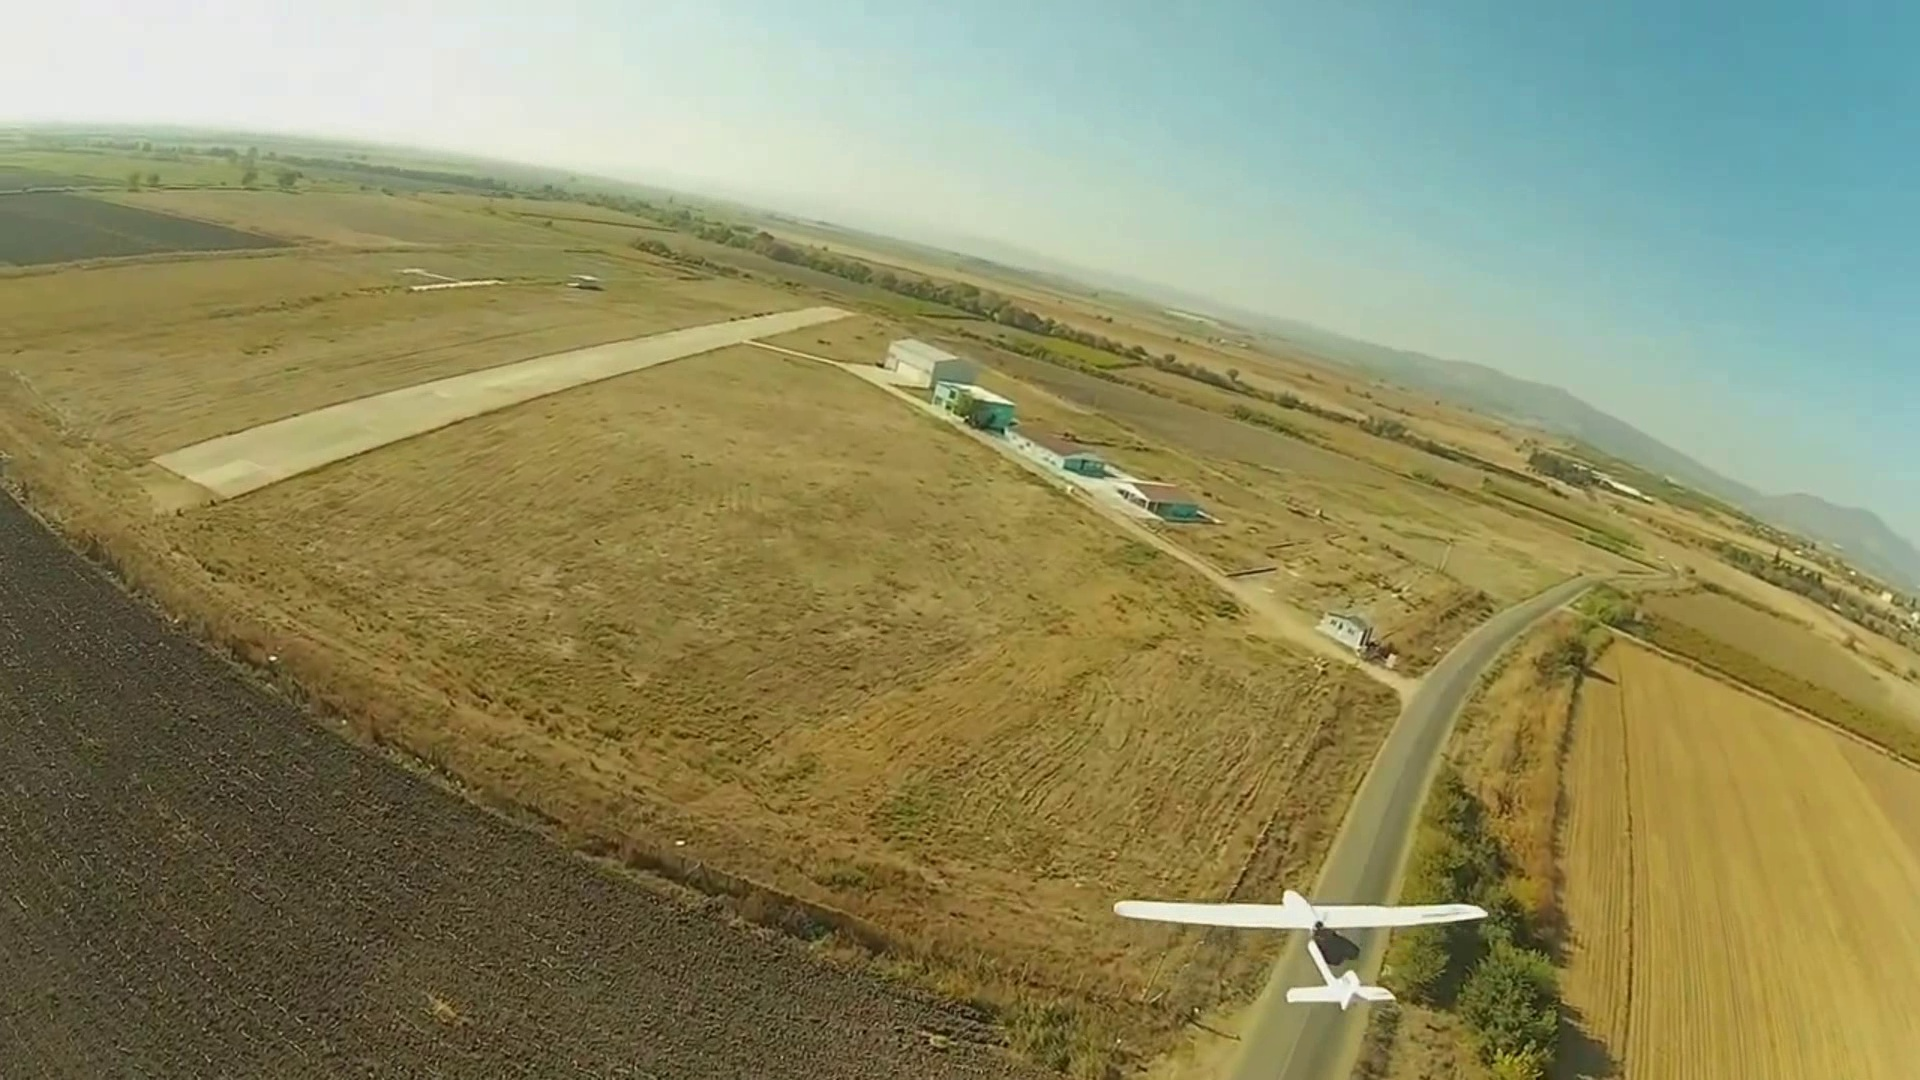airplane: (1111, 568, 1916, 1075)
